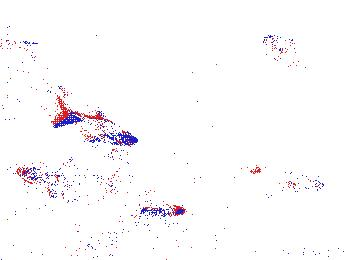X-ray fish: (256, 33, 320, 72), (107, 147, 143, 180)
red belly glassfish: (142, 205, 190, 220), (55, 83, 86, 102)
redtail glassfish: (56, 98, 141, 150), (18, 163, 116, 194), (250, 163, 326, 197), (1, 28, 47, 64)
